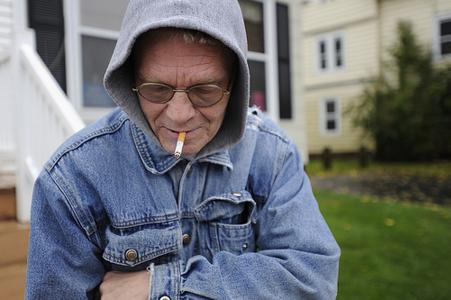person: (25, 1, 343, 299)
